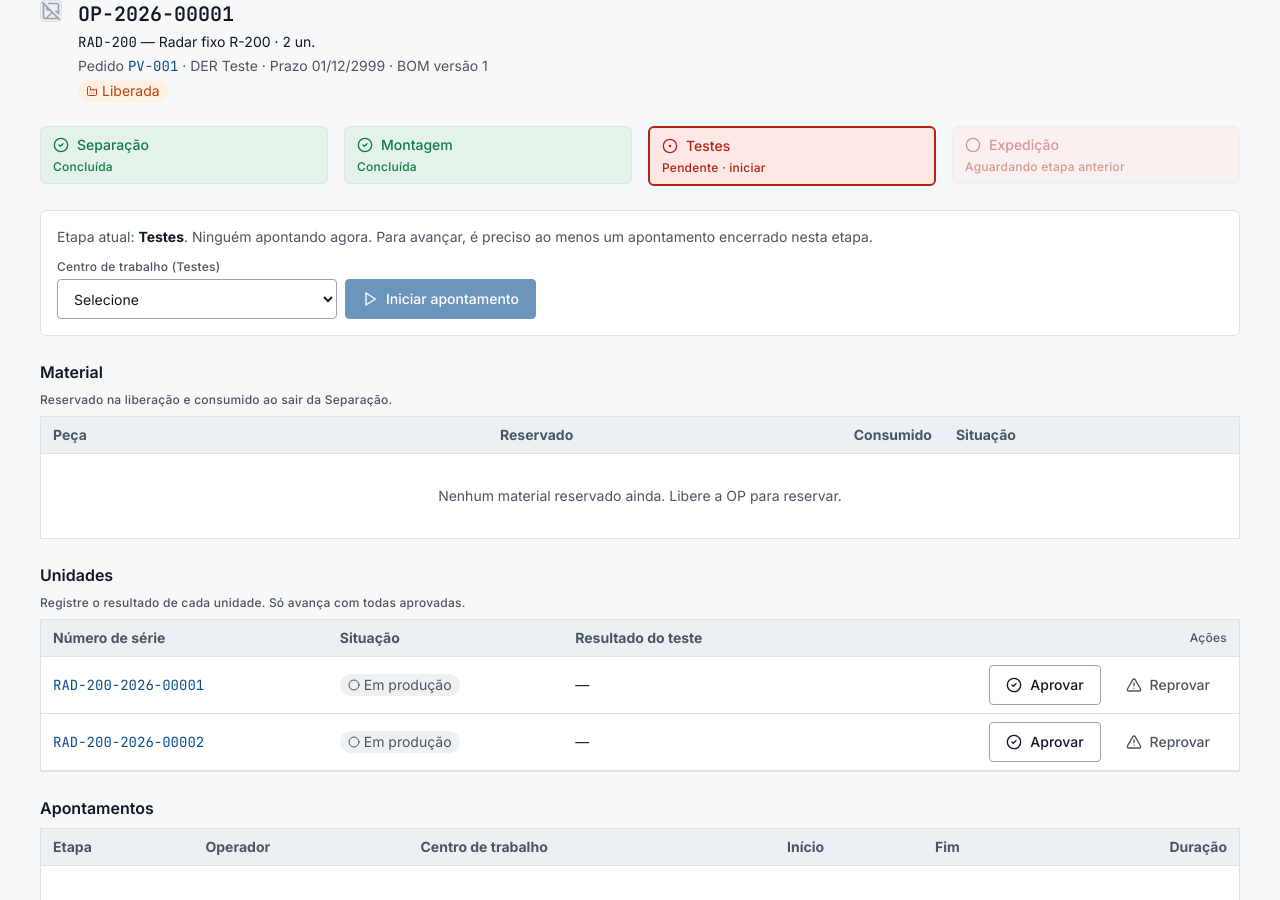
Test: DetalheOP › em Testes registra aprovacao e exige resultado na reprovacao
Click the button with aria-label "Aprovar RAD-200-2026-00001" at (1045, 685), box [989,665,1100,705]
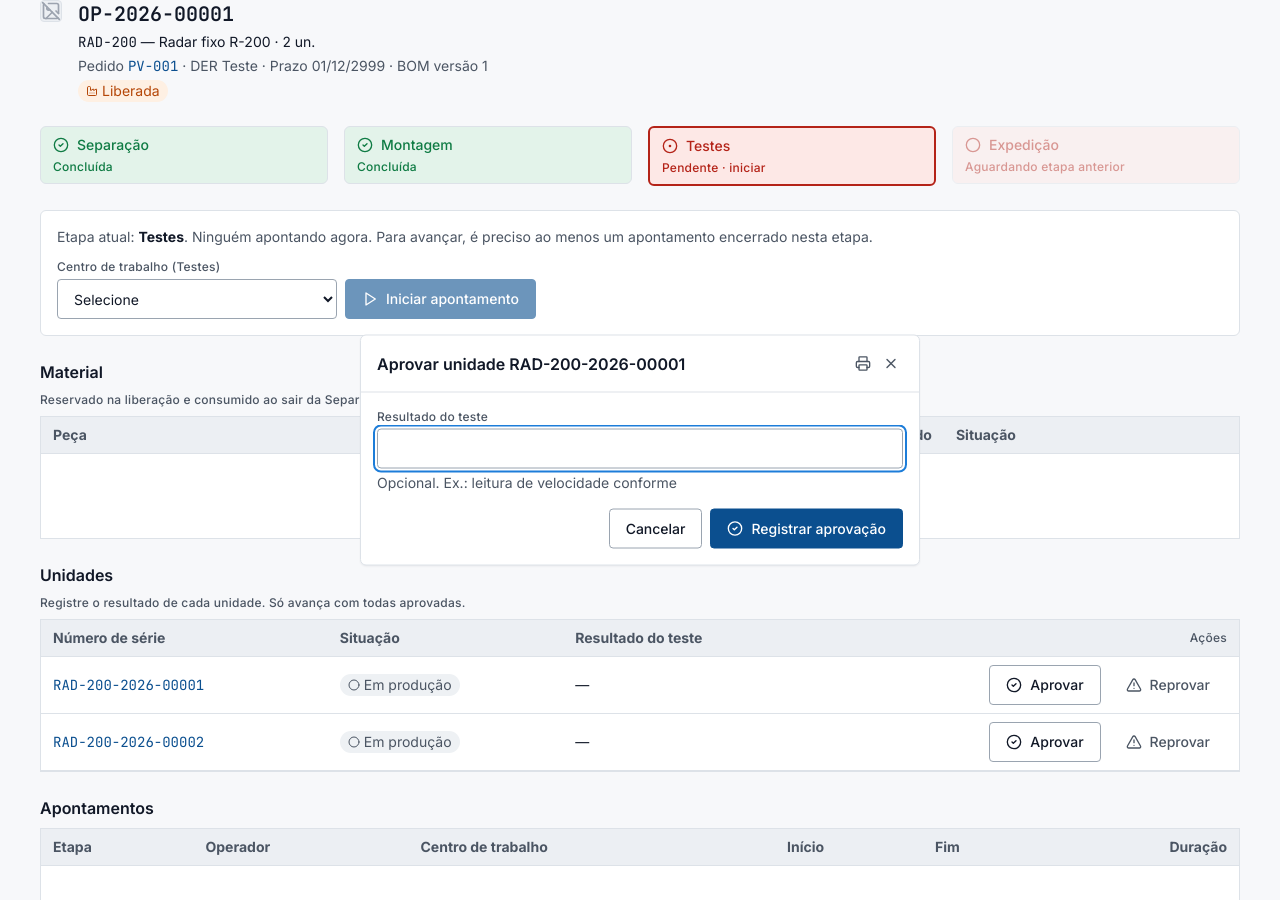
Type "Leitura conforme" into the field labelled "Resultado do teste" at (640, 448), box [377,428,903,468]
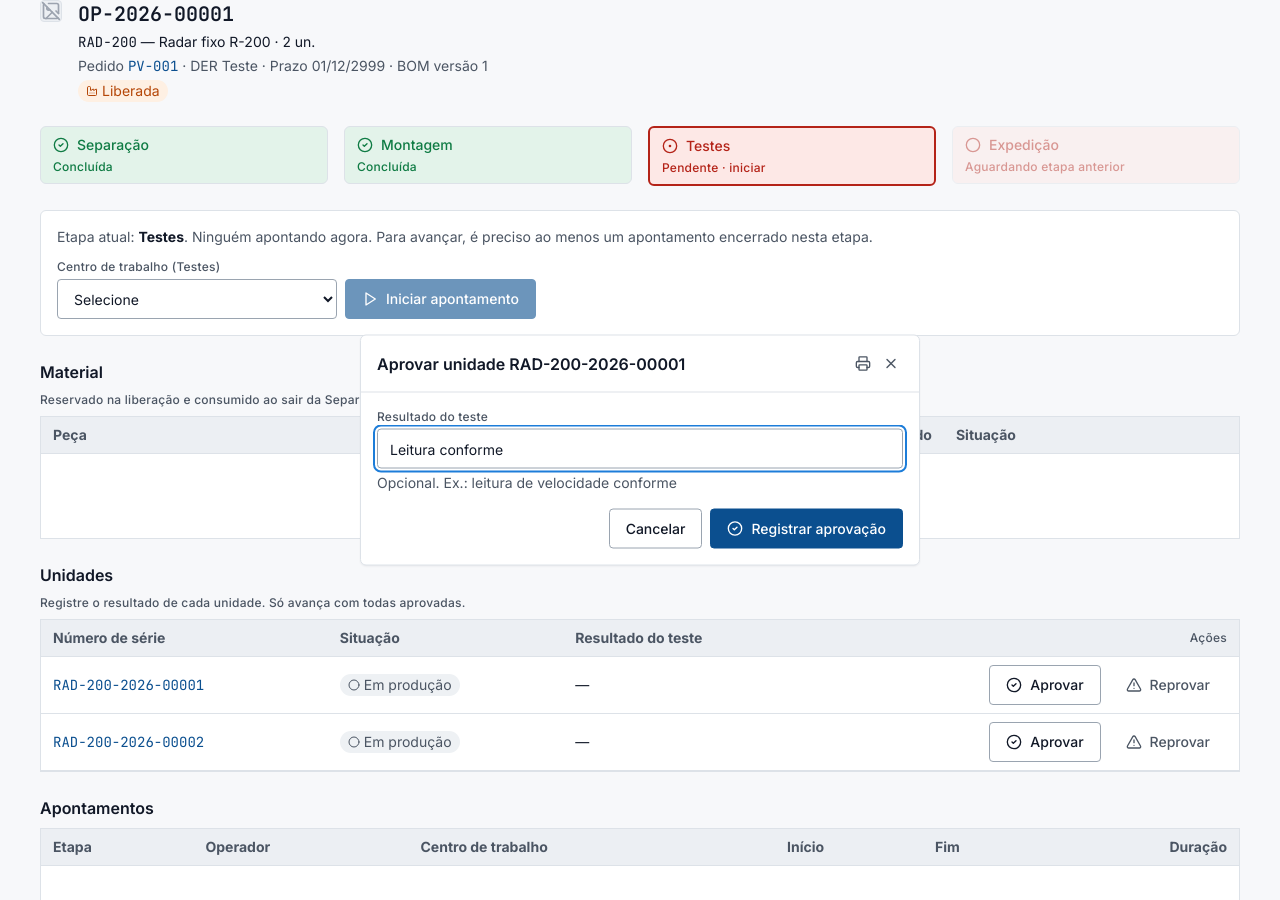
Click the button "Registrar aprovação" at (807, 528), box [710,508,903,548]
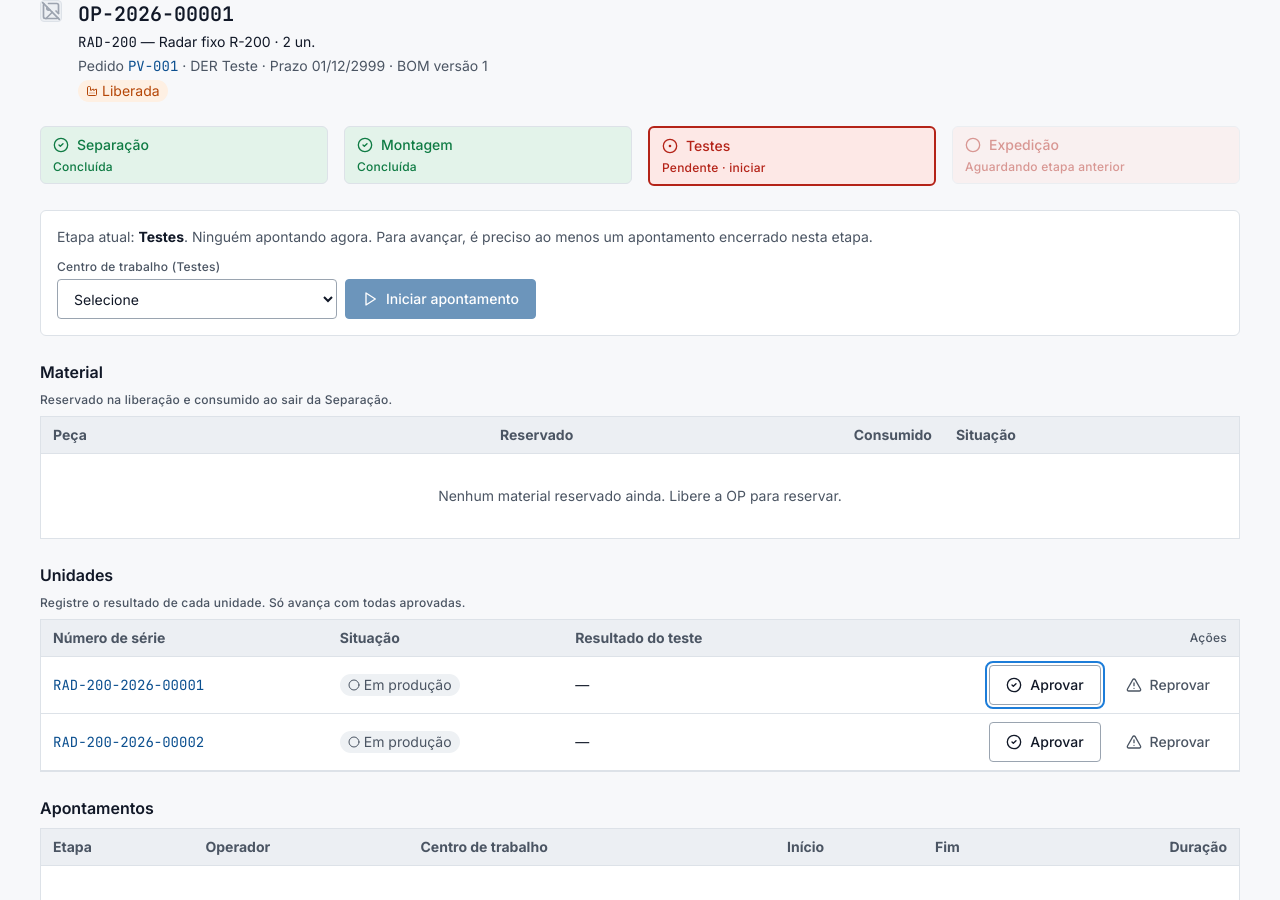
Click the button with aria-label "Reprovar RAD-200-2026-00002" at (1168, 742), box [1109,722,1227,762]
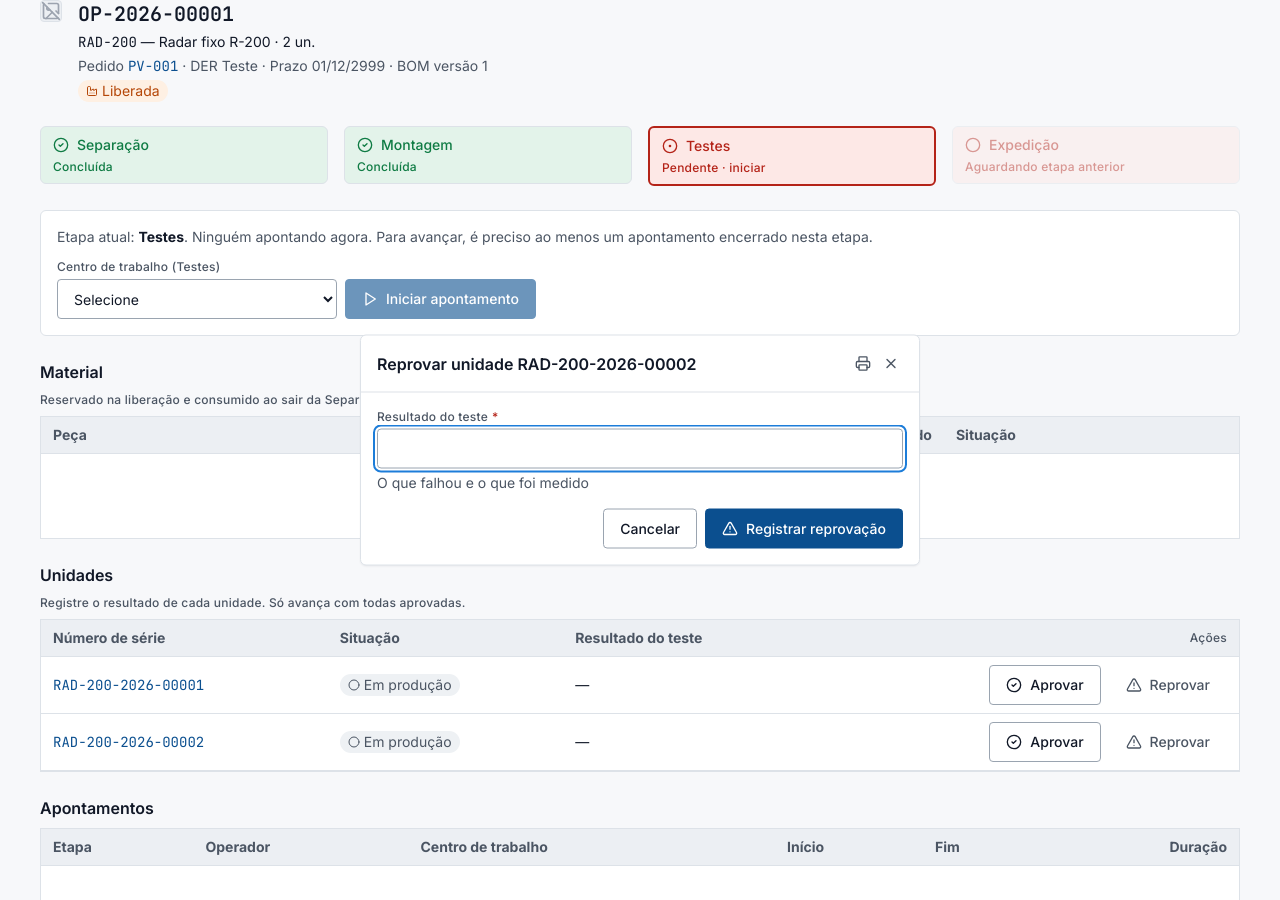
Click the button "Registrar reprovação" at (804, 528), box [705,508,903,548]
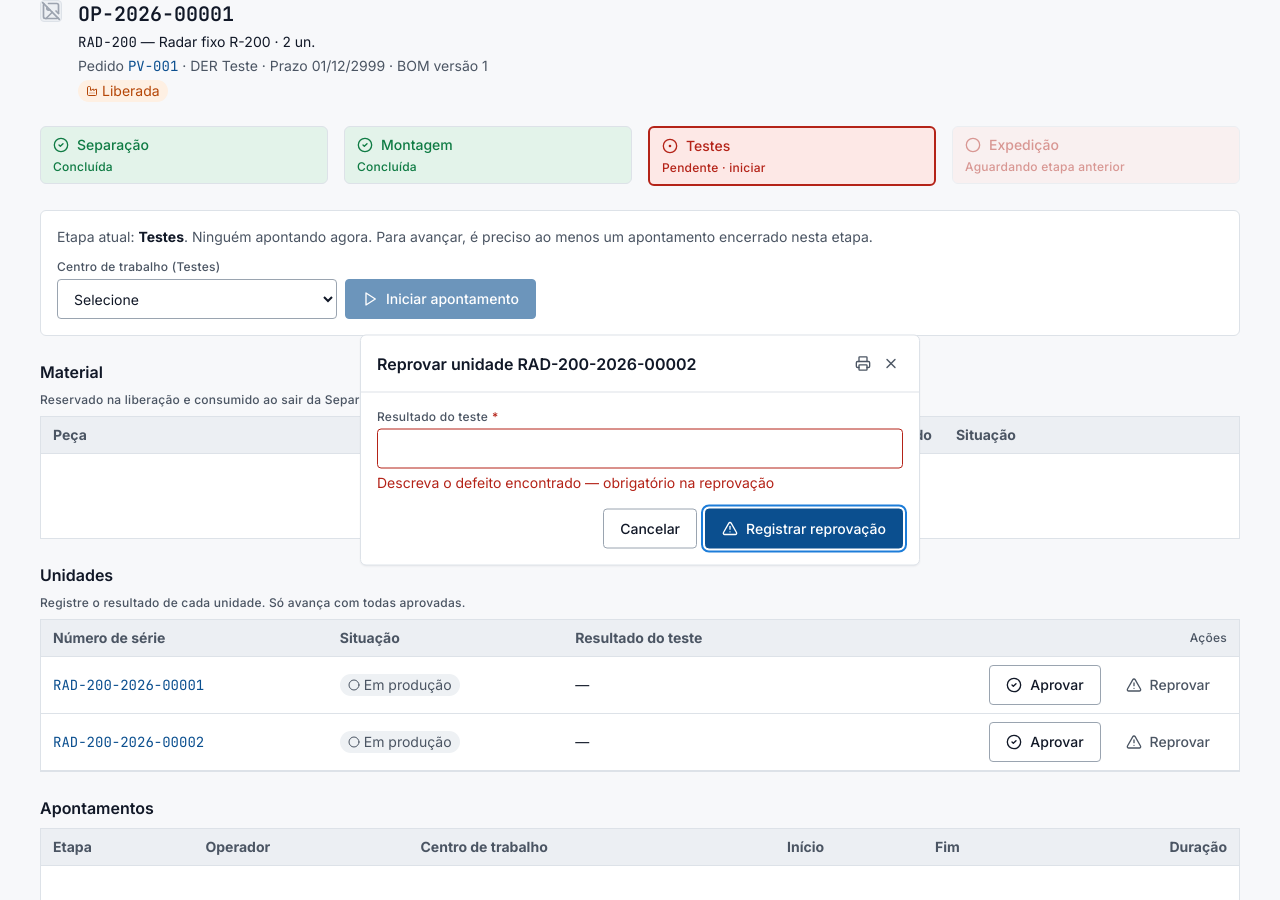
Now the text "Descreva o defeito encontrado — obrigatório na reprovação" is shown, box [377,474,774,490]
